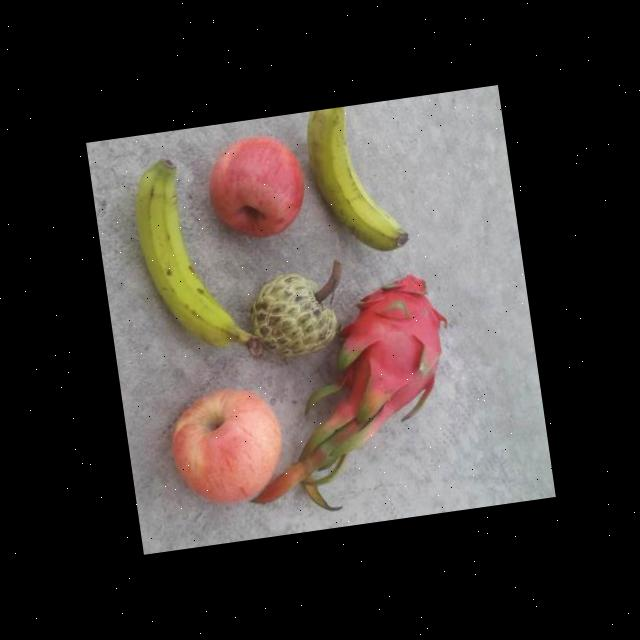Sakya fruit: (238, 270, 339, 368)
apple: (162, 384, 292, 514), (198, 129, 314, 248)
banana: (127, 150, 245, 360), (303, 100, 416, 260)
pitaya: (327, 274, 455, 424)
